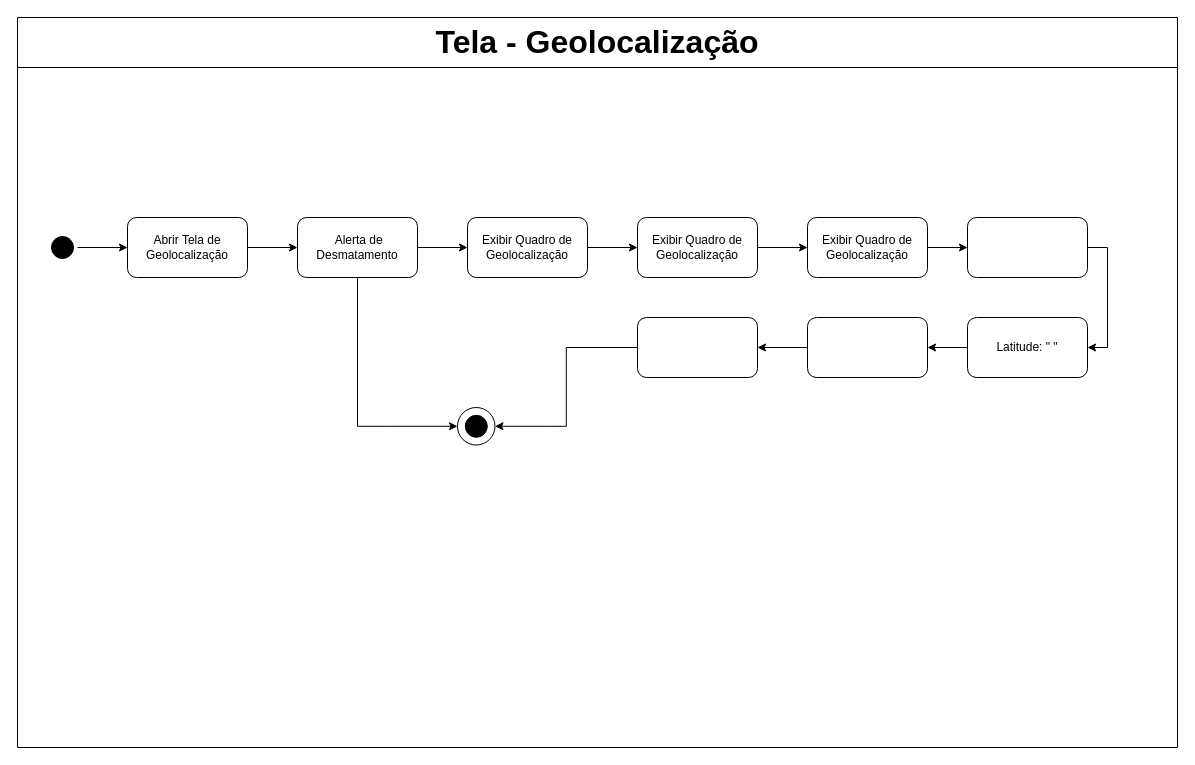
Some shapes in this 1195 by 765 pixel diagram are drawn without their labels. Each missing label, with the centre of its shape:
Exibir Botões: Home e Denunciar: pixel 697 347
Localização: pixel 1027 247
Longitude: " ": pixel 867 347
